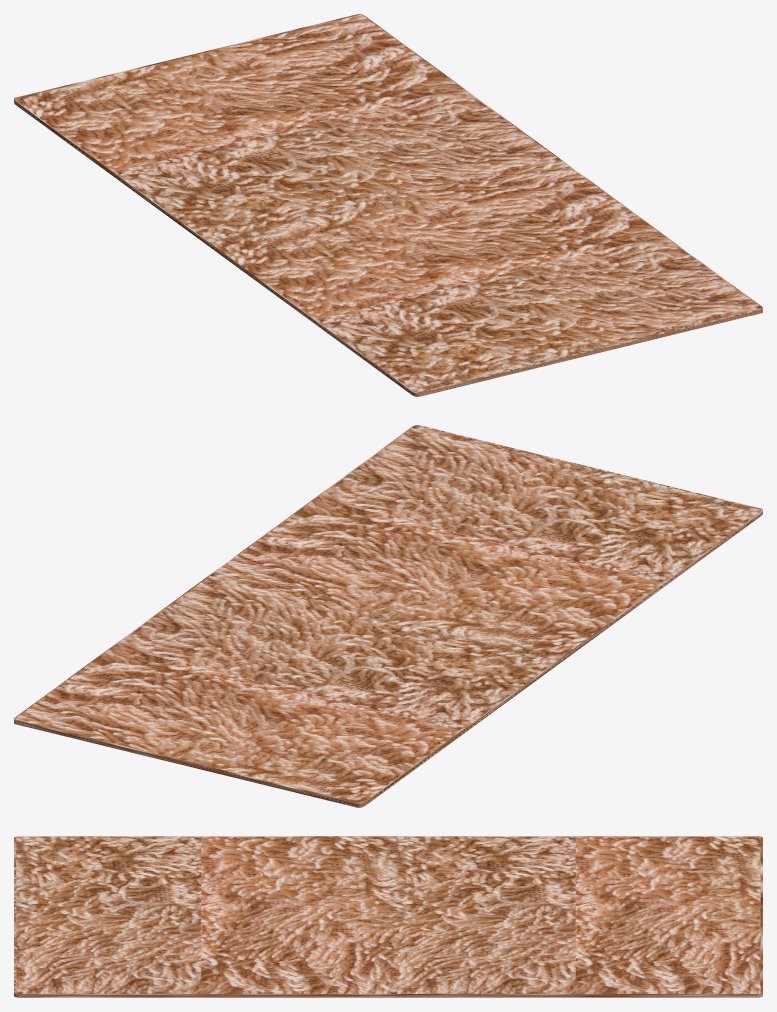
Rendered from carpet.fbx.
3 renders of one model, top to bottom at view 1: azimuth 30°, elevation 25°; view 2: azimuth 150°, elevation 25°; view 3: azimuth 270°, elevation 25°, orthographic. The views are drawn at different scales.
Visible parts, largest first — view 1: Cube; view 2: Cube; view 3: Cube.
Boxes of the visible parts, <box> form: Cube: <box>14,14,762,396</box>; Cube: <box>14,425,762,807</box>; Cube: <box>14,836,762,997</box>.
Size of the model in its own units: 200 by 2 by 400.
1 material, 1 textured.
